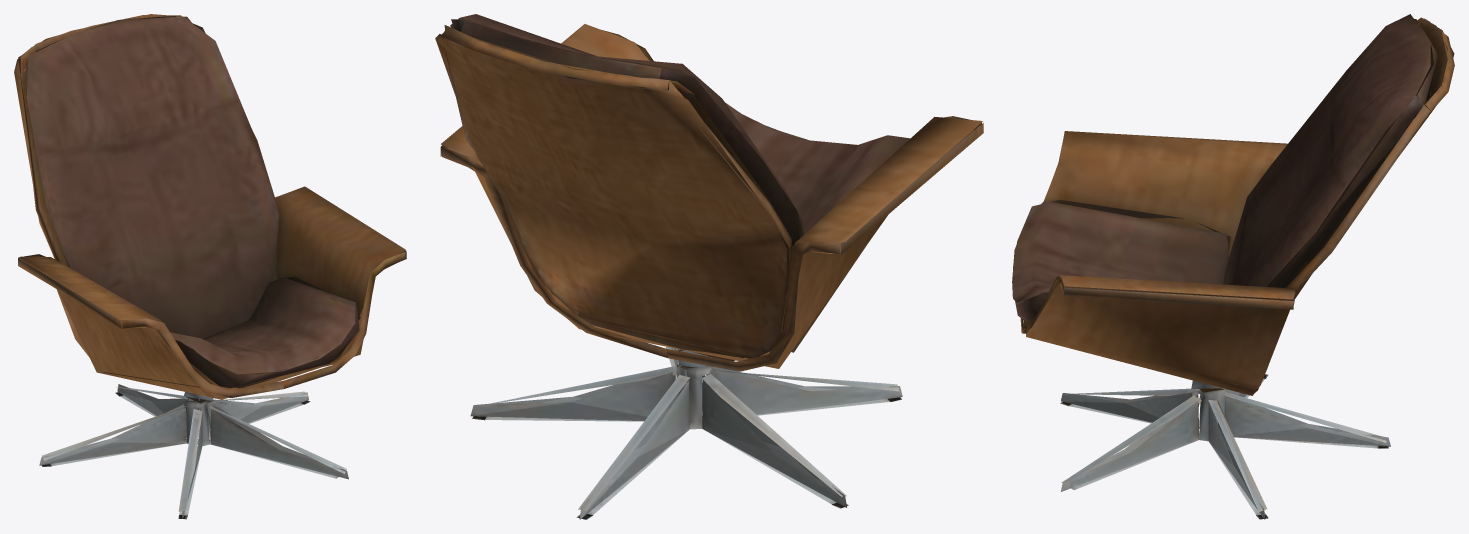
Rendered from armchair.gltf.
3 views of the same model, side by side, from view 1: azimuth 30°, elevation 25°; view 2: azimuth 150°, elevation 25°; view 3: azimuth 270°, elevation 25° (orthographic). The views are drawn at different scales.
Visible parts, largest first — view 1: mid_century_lounge_chair; view 2: mid_century_lounge_chair; view 3: mid_century_lounge_chair.
Boxes of the visible parts, bbox=[...] form: mid_century_lounge_chair: bbox=[14, 14, 406, 519]; mid_century_lounge_chair: bbox=[435, 14, 983, 519]; mid_century_lounge_chair: bbox=[1012, 14, 1454, 519].
Size of what is drawn, in the model's own units: 0.9994 by 1.17 by 1.19.
Materials: 1 (1 with a texture image).
